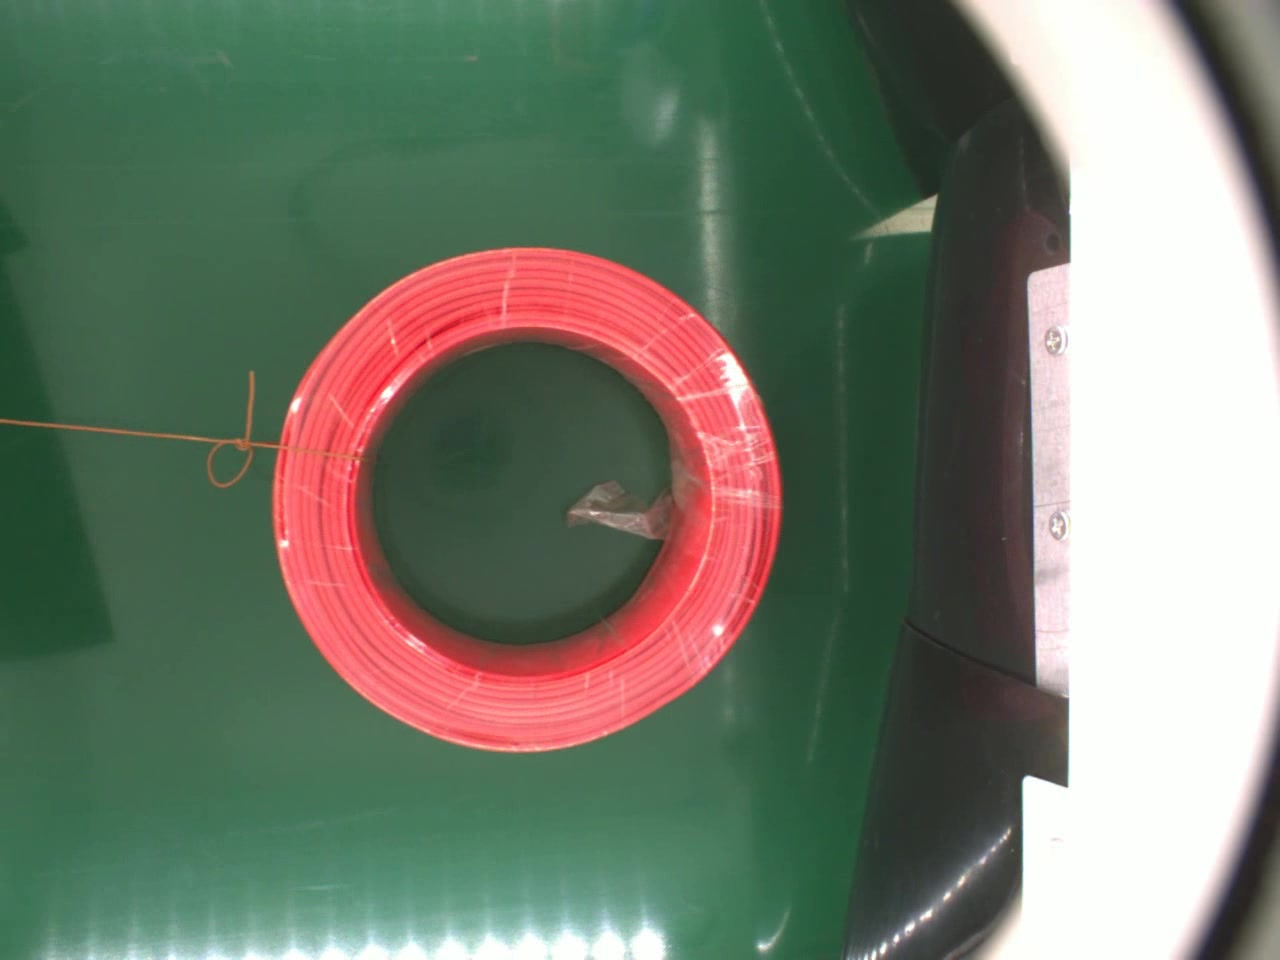red: (269, 240, 795, 755)
